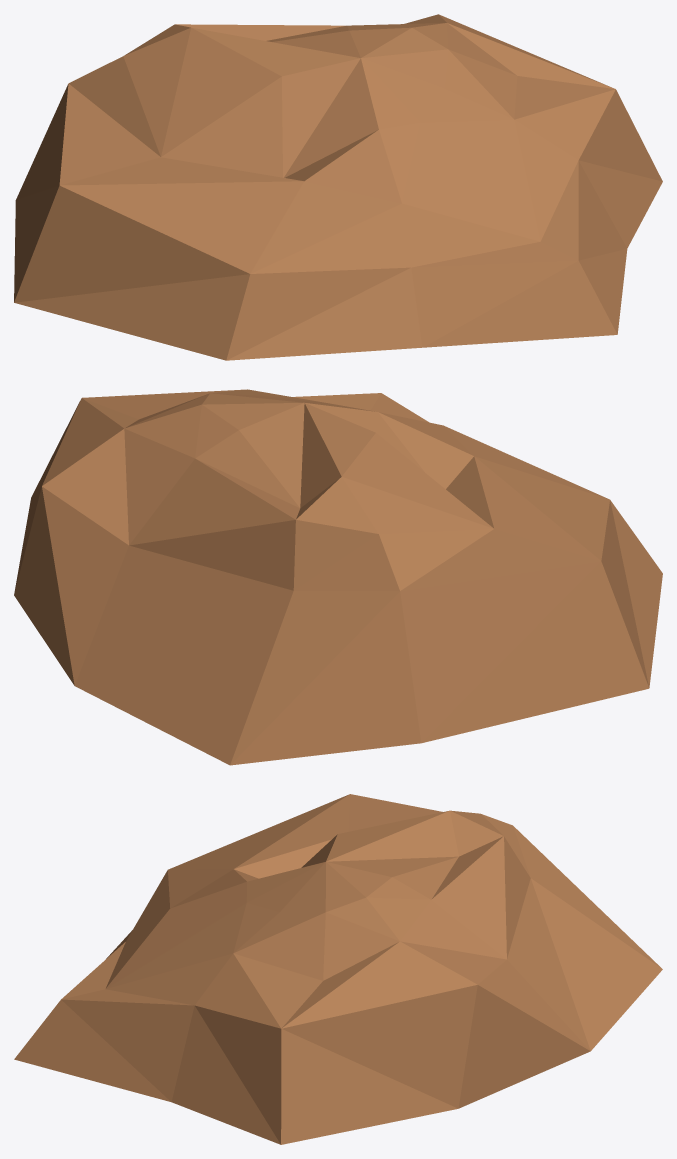
The model's file is Stone_8.fbx.
The picture shows the model from 3 angles, top to bottom: view 1: azimuth 30°, elevation 25°; view 2: azimuth 150°, elevation 25°; view 3: azimuth 270°, elevation 25°; orthographic projection. The views are drawn at different scales.
Parts seen in each view (by area): view 1: Stone_8; view 2: Stone_8; view 3: Stone_8.
Part boxes in pixels (bbox=[...]): Stone_8: bbox=[14, 14, 662, 360]; Stone_8: bbox=[14, 389, 662, 765]; Stone_8: bbox=[14, 794, 662, 1144].
Size of the model in its own units: 157 by 158 by 44.09.
